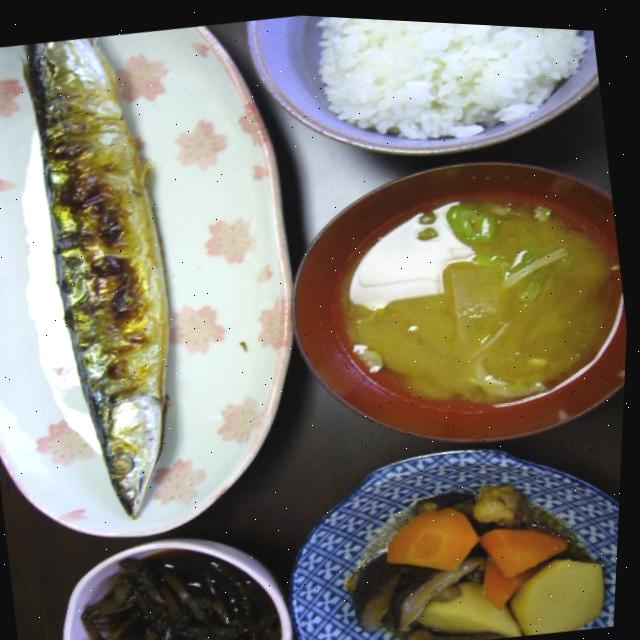熟制海鲜: (0, 23, 224, 542)
